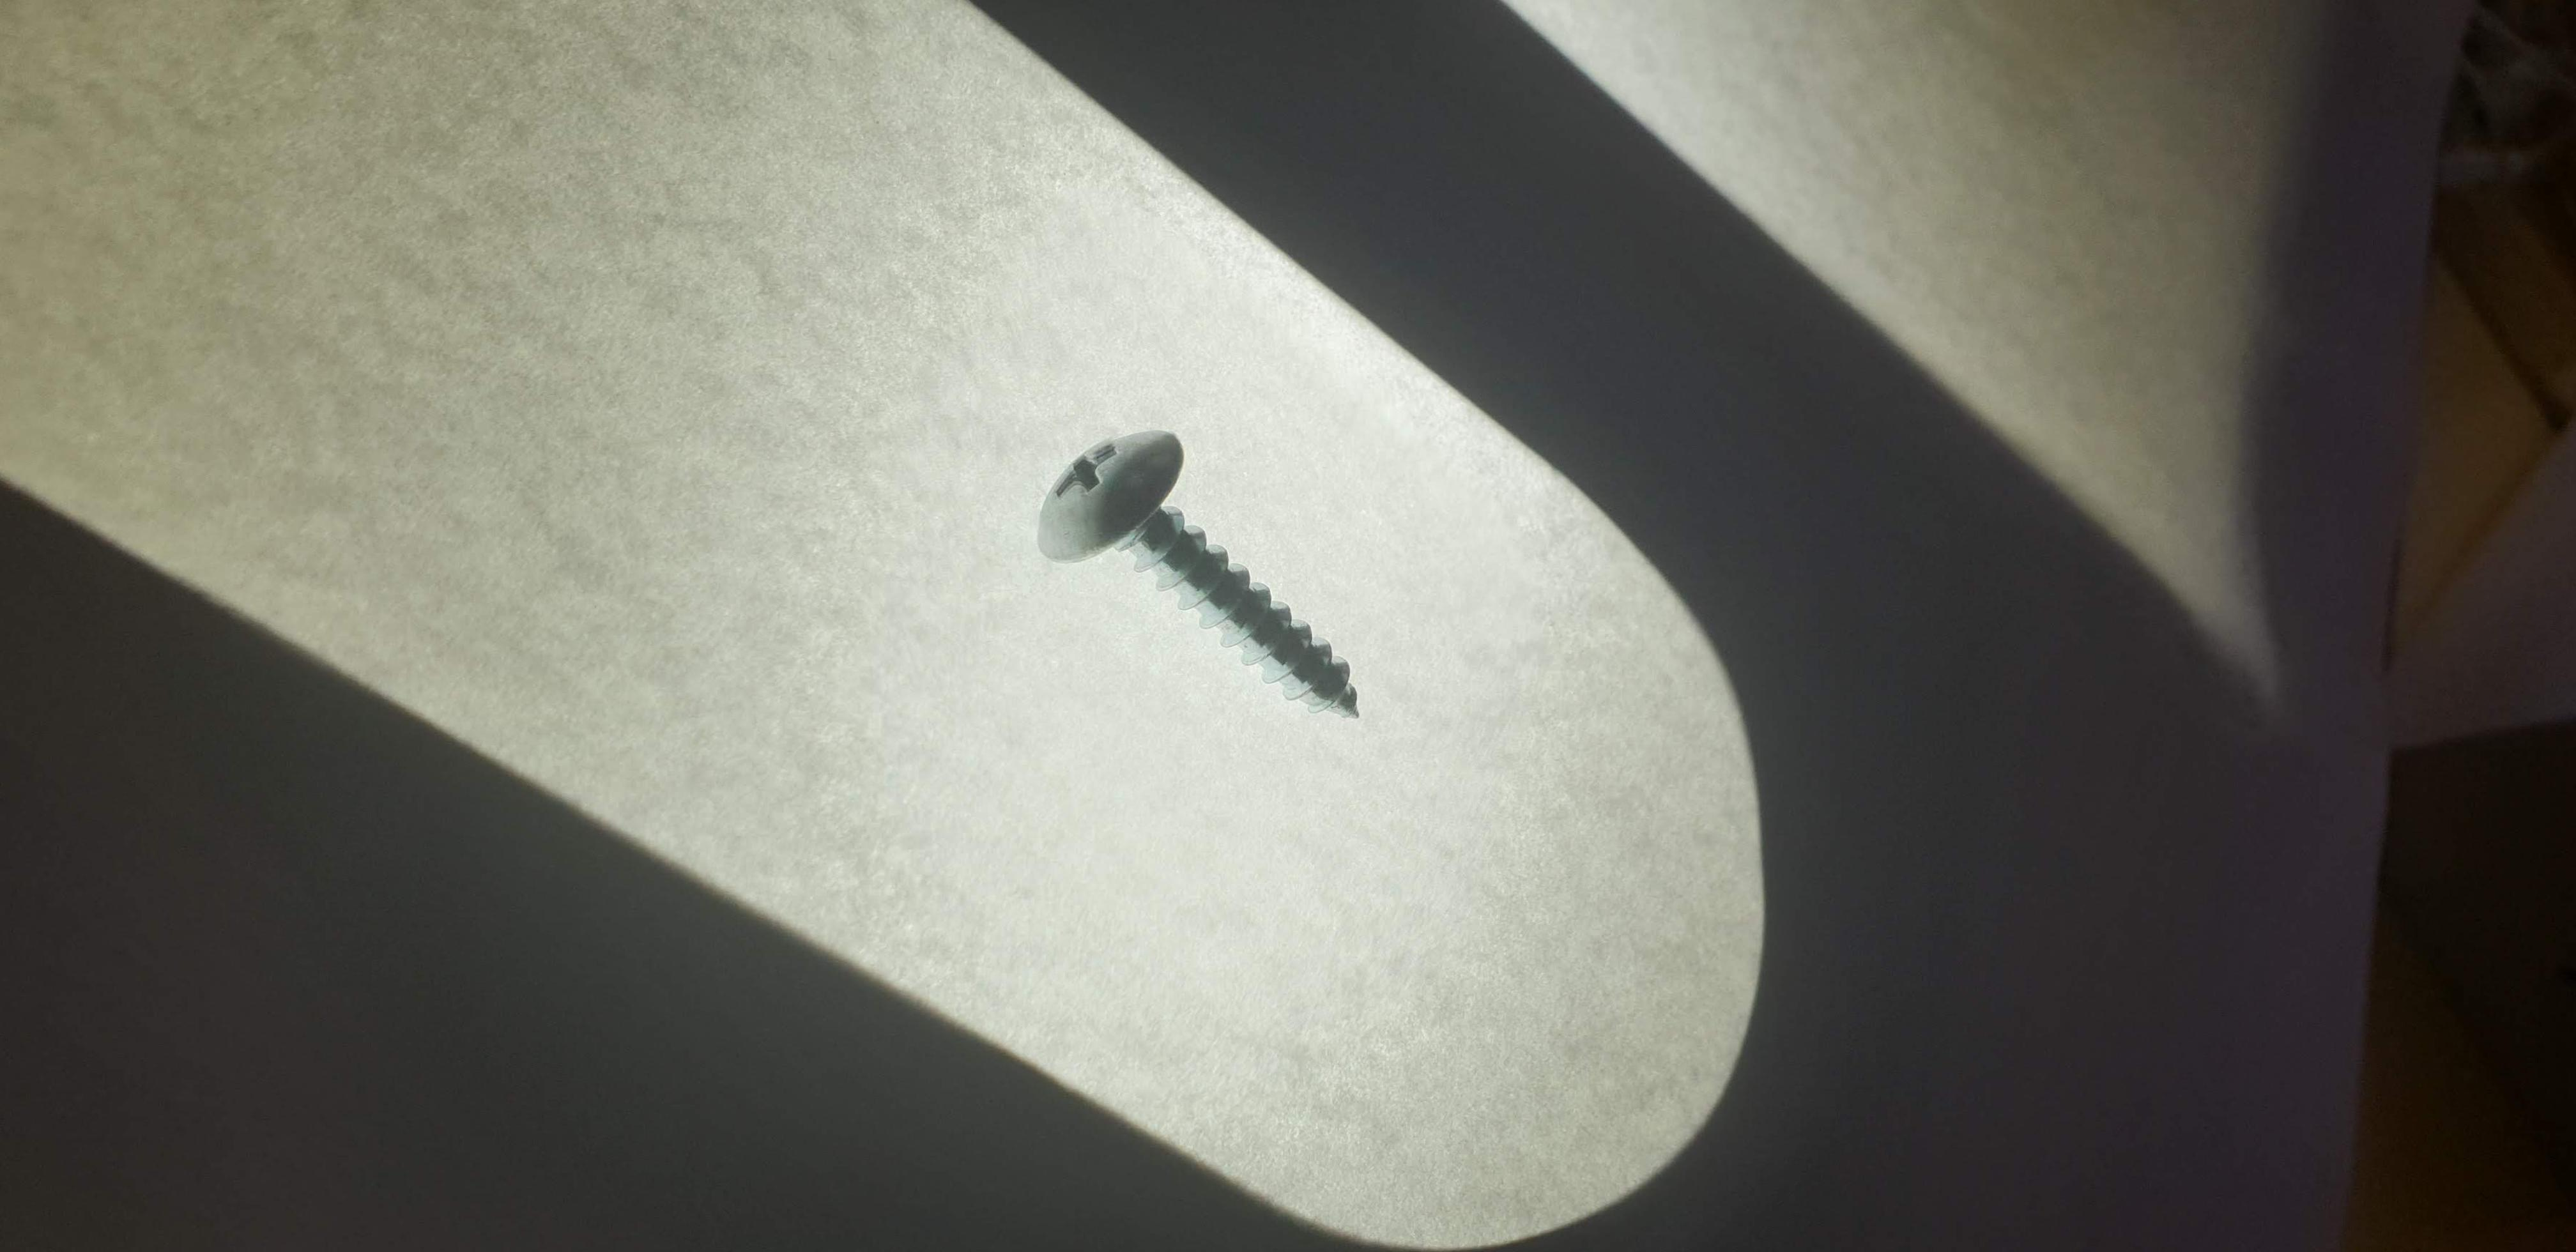S002: (992, 391, 1446, 787)
